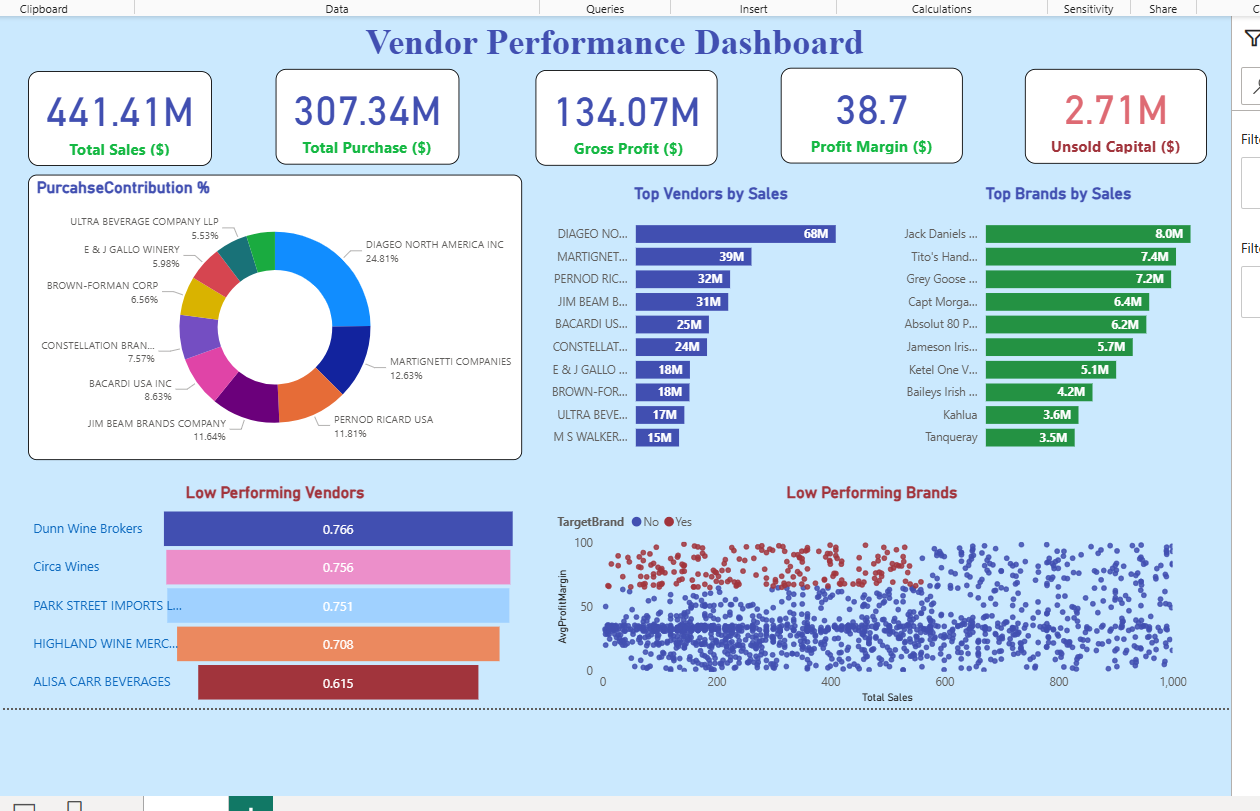

This screenshot's page, from the dashboard's own definition file:
{"tool":"powerbi","page":{"name":"Page 1","canvas":[1280,720],"ordinal":0},"visuals":[{"type":"card","fields":{"Values":["Sum(vendor_sales_summary.TotalSalesDollars)"]},"box":[29.3,57.3,190.7,98.3],"z":0},{"type":"card","fields":{"Values":["Sum(vendor_sales_summary.TotalPurchaseDollars)"]},"box":[286.7,55,190.7,99.5],"z":1000},{"type":"card","fields":{"Values":["Sum(vendor_sales_summary.GrossProfit)"]},"box":[556.9,56.2,189.5,99.5],"z":2000},{"type":"card","fields":{"Values":["Avg(vendor_sales_summary.ProfitMargin)"]},"box":[812,53.8,189.5,99.5],"z":3000},{"type":"card","fields":{"Values":["Sum(vendor_sales_summary.UnsoldCapital)"]},"box":[1065.9,55,189.5,98.3],"z":4000},{"type":"donutChart","title":"PurcahseContribution % ","fields":{"Category":["PurchaseContribution.VendorName"],"Y":["Sum(PurchaseContribution.PurcahseContribution%)"]},"box":[29.3,165,513.6,297.2],"z":5000},{"type":"clusteredBarChart","title":"Top Vendors by Sales","fields":{"Category":["vendor_sales_summary.VendorName"],"Y":["Sum(vendor_sales_summary.TotalSalesDollars)"]},"box":[556.9,174.3,365,287.8],"z":6000},{"type":"clusteredBarChart","title":"Top Brands by Sales","fields":{"Y":["Sum(vendor_sales_summary.TotalSalesDollars)"],"Category":["vendor_sales_summary.Description"]},"box":[922,174.3,358,287.8],"z":7000},{"type":"funnel","title":"Low Performing Vendors","fields":{"Category":["LowTurnovervendor.VendorName"],"Y":["Avg(LowTurnovervendor.AvgStockTurnover)"]},"box":[29.3,475,513.6,234],"z":8000},{"type":"scatterChart","title":"Low Performing Brands","fields":{"Category":["BrandPerformance.Description"],"X":["Sum(BrandPerformance.TotalSales)"],"Y":["Avg(BrandPerformance.AvgProfitMargin)"],"Series":["BrandPerformance.TargetBrand"]},"box":[590.9,462.2,664.6,234],"z":9000},{"type":"textbox","box":[317.1,0,644.7,53.8],"z":10000}]}

Visuals, with their boxes on the page's 1280x720 design canvas (x1, y1, x2, y2). These are canvas units, not pixel positions in the 1260x811 screenshot, which may show the page scaled, cropped or inside an application window:
card - Sum(vendor_sales_summary.TotalSalesDollars): [29, 57, 220, 156]
card - Sum(vendor_sales_summary.TotalPurchaseDollars): [287, 55, 477, 154]
card - Sum(vendor_sales_summary.GrossProfit): [557, 56, 746, 156]
card - Avg(vendor_sales_summary.ProfitMargin): [812, 54, 1002, 153]
card - Sum(vendor_sales_summary.UnsoldCapital): [1066, 55, 1255, 153]
"PurcahseContribution % " donutChart: [29, 165, 543, 462]
"Top Vendors by Sales" clusteredBarChart: [557, 174, 922, 462]
"Top Brands by Sales" clusteredBarChart: [922, 174, 1280, 462]
"Low Performing Vendors" funnel: [29, 475, 543, 709]
"Low Performing Brands" scatterChart: [591, 462, 1256, 696]
textbox: [317, 0, 962, 54]
